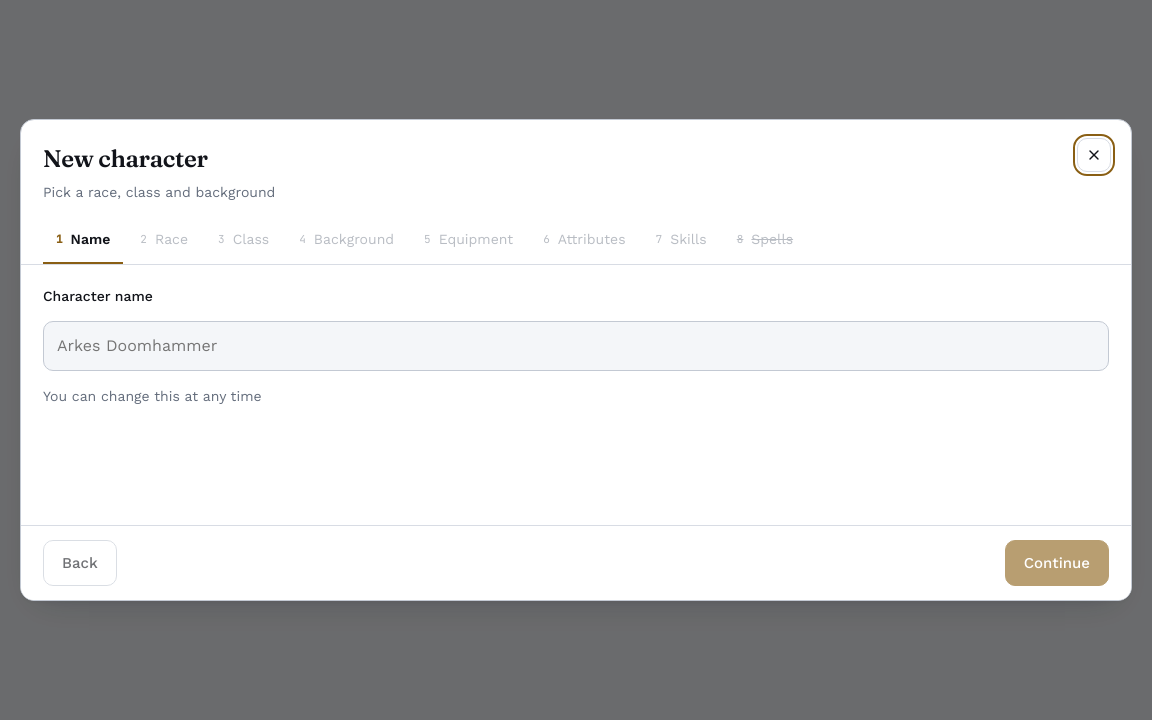
Test: CharacterModal › keeps Continue disabled until the step is valid
This screenshot has width=1152, height=720.
Expected: the button "Continue" is disabled, 1005,540 -> 1109,586
Type "Arkes" into the field labelled "Character name".
click(576, 346); type("Arkes")  # box 43,321 -> 1109,371
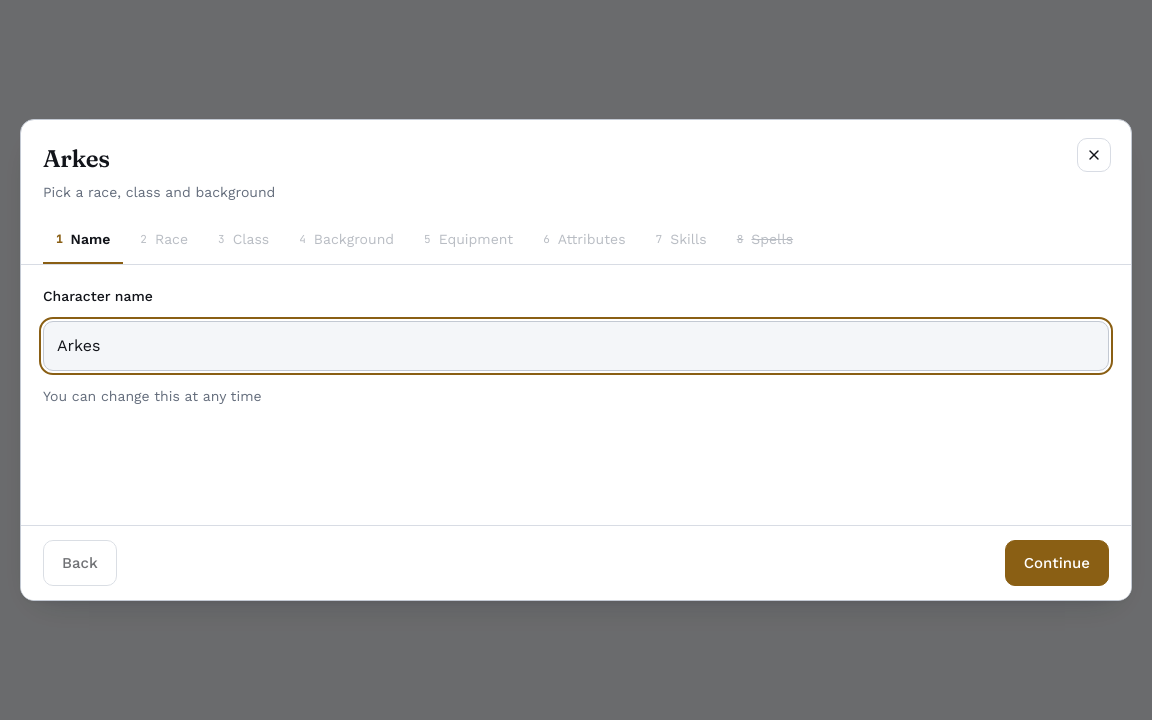
Result: the button "Continue" is enabled at 1005,540 -> 1109,586
